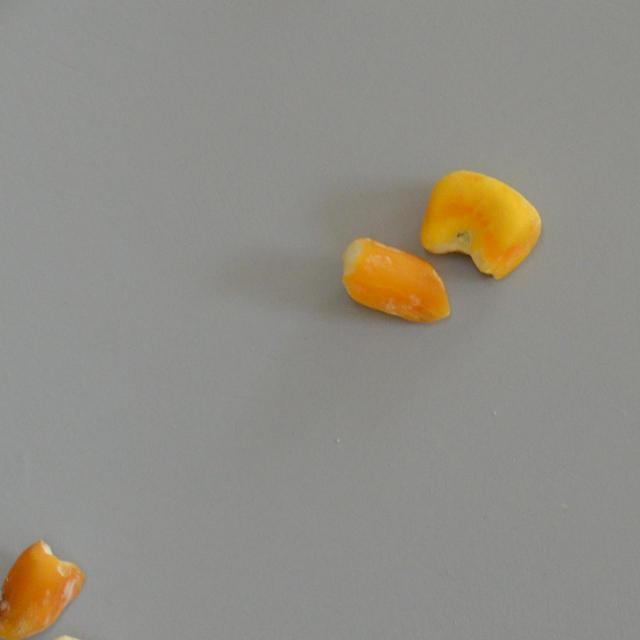dañado: (418, 164, 543, 282), (336, 234, 454, 330), (0, 536, 86, 640)
